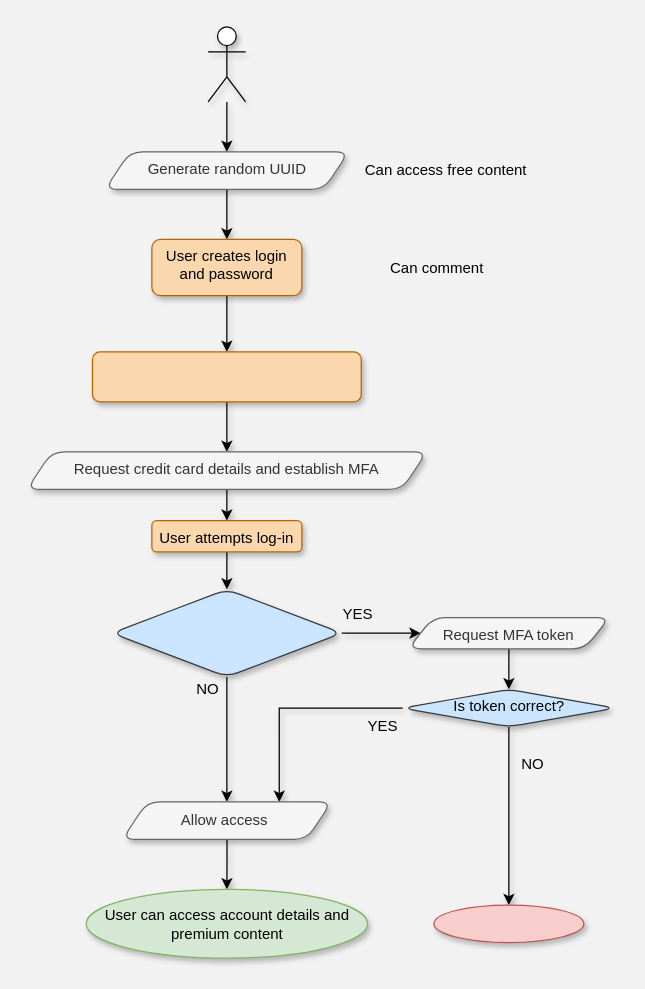
Some shapes in this 645 by 989 pixel diagram are drawn without their labels. The centre of each missing label's shape, as x and y in pixels:
Anonymous user: [227,66]
Deny access: [509,925]
Is user logging in from a new device?: [227,634]
User wants to purchase access to premium content: [227,378]
